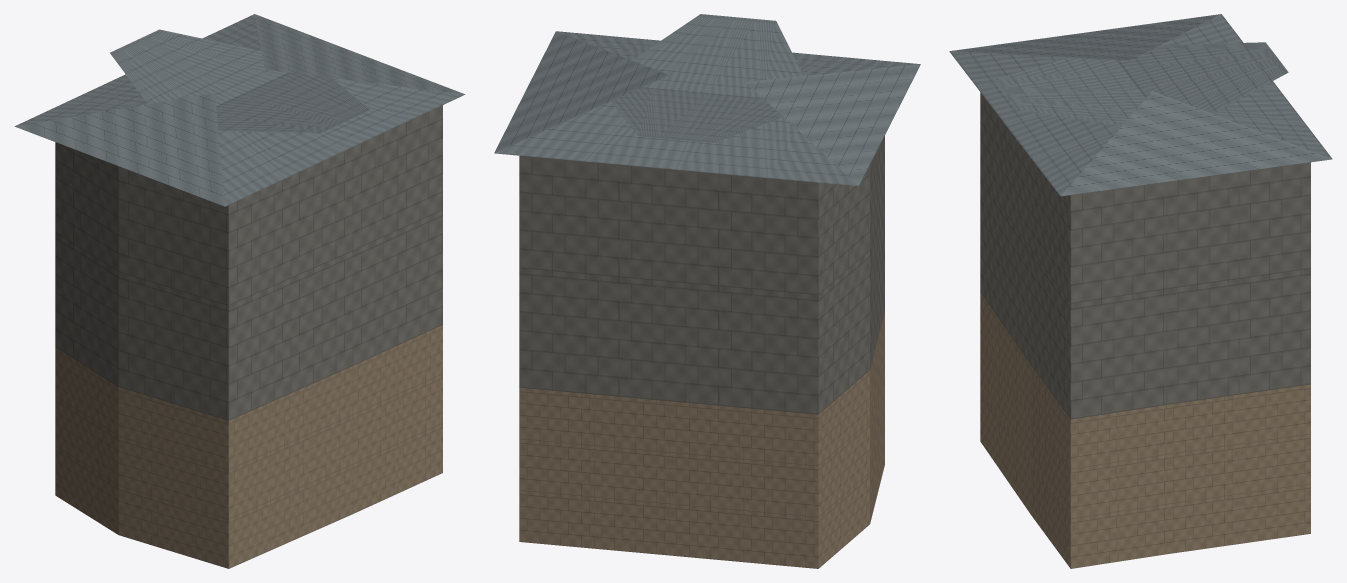
Rendered from bld_c30_-25_542.gltf.
3 views of the same model, side by side, from view 1: azimuth 30°, elevation 25°; view 2: azimuth 150°, elevation 25°; view 3: azimuth 270°, elevation 25° (orthographic). The views are drawn at different scales.
Visible parts, largest first — view 1: bld_c30_-25_542; view 2: bld_c30_-25_542; view 3: bld_c30_-25_542.
Part boxes in pixels (bbox=[...]): bld_c30_-25_542: bbox=[14, 14, 465, 568]; bld_c30_-25_542: bbox=[494, 14, 920, 568]; bld_c30_-25_542: bbox=[949, 14, 1332, 568].
Size of the model in its own units: 13.36 by 14 by 11.87.
Materials: 3 (3 with a texture image).
